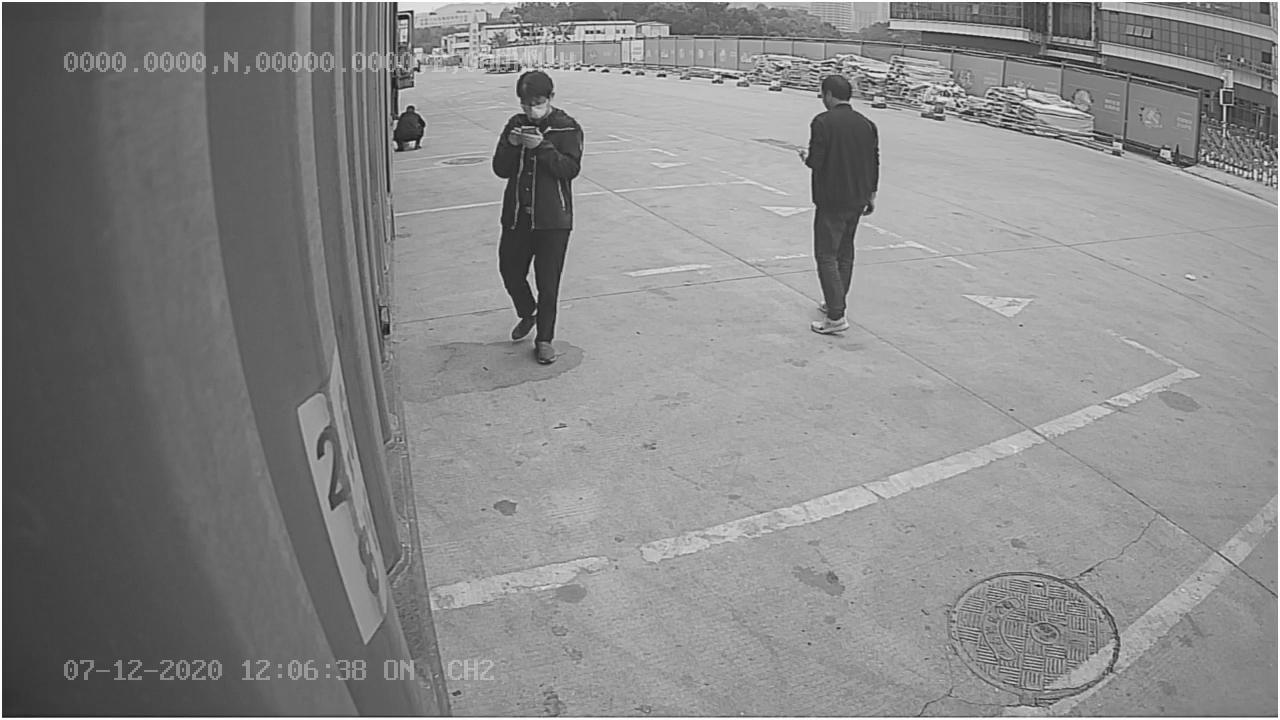person: (485, 64, 586, 364), (793, 75, 884, 334)
